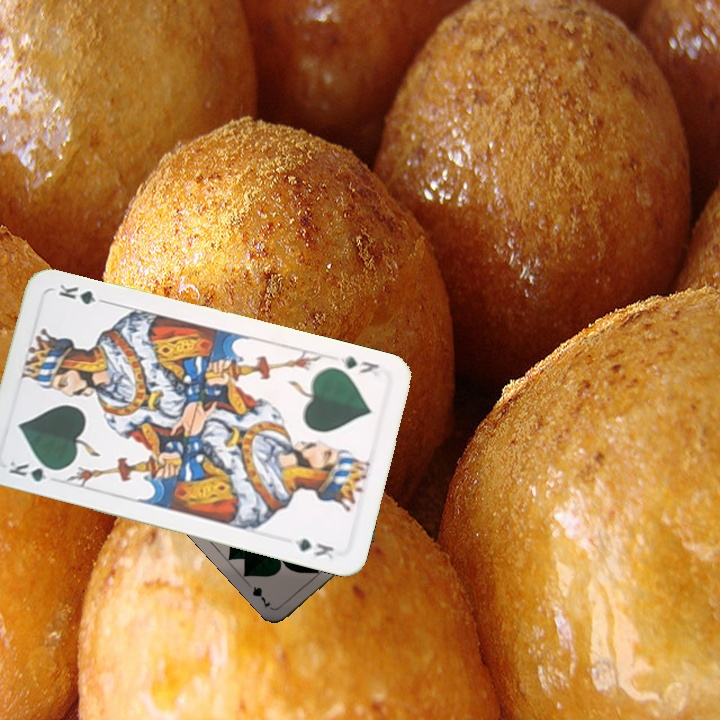GK: (4, 457, 63, 488), (335, 352, 381, 376)
